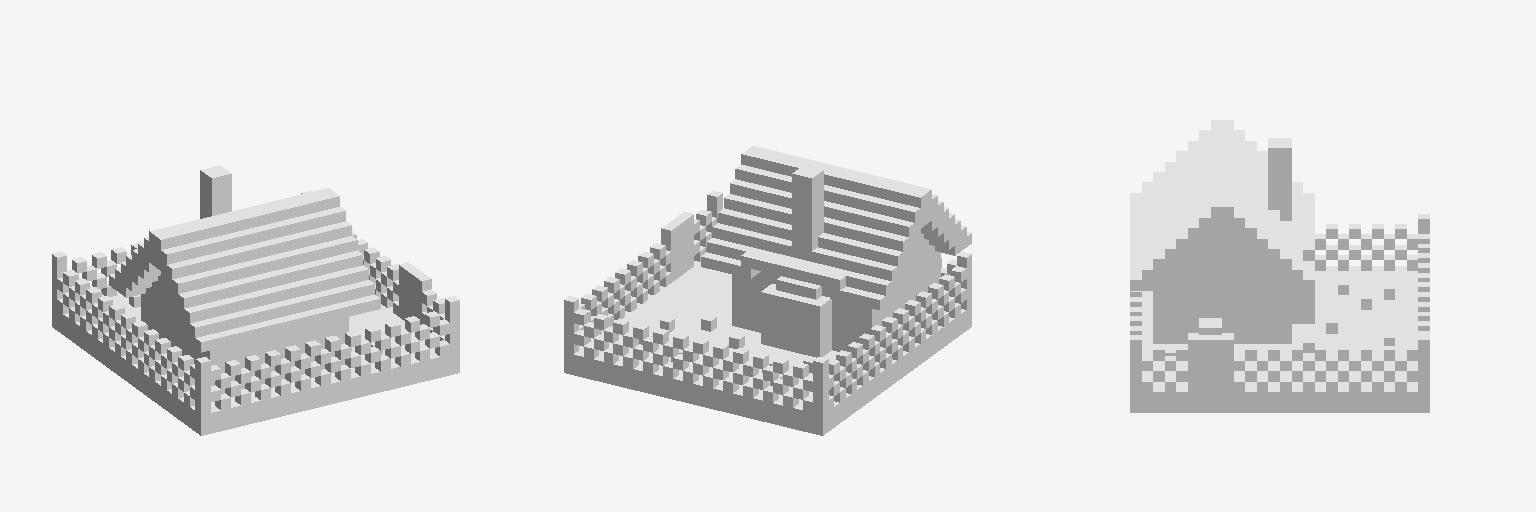
Rendered from house1.1.obj.
3 renders of one model, left to right at view 1: azimuth 30°, elevation 25°; view 2: azimuth 150°, elevation 25°; view 3: azimuth 270°, elevation 25°, orthographic.
Visible parts, largest first — view 1: object 1; view 2: object 1; view 3: object 1.
Boxes of the visible parts, x1,y1,x2,y2 form: object 1: [52, 165, 459, 435]; object 1: [564, 146, 971, 435]; object 1: [1130, 120, 1429, 412].
Size of the model in its own units: 2.6 by 1.8 by 2.6.